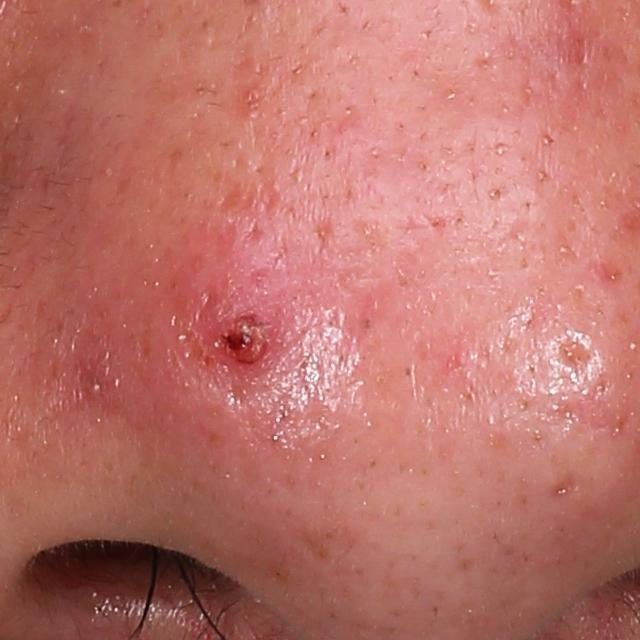atrophic_scar: (216, 176, 292, 247), (554, 335, 589, 375), (549, 466, 579, 500)
comedo: (483, 183, 507, 204)
